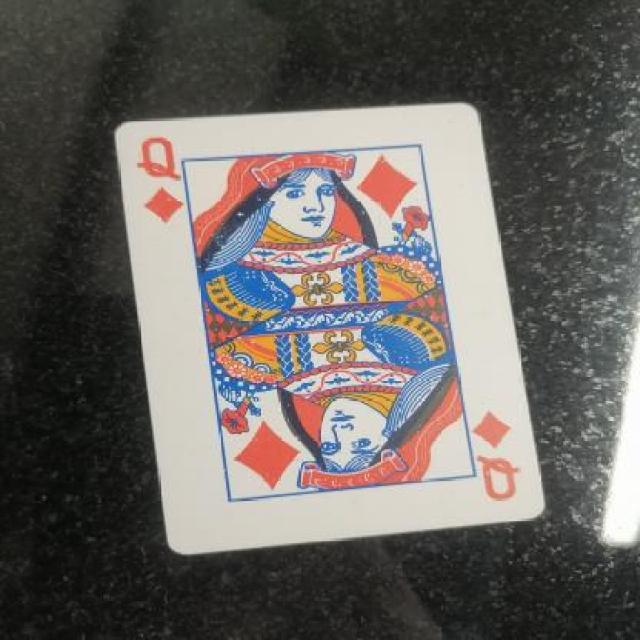QD: (472, 411, 536, 506), (133, 132, 182, 226)
